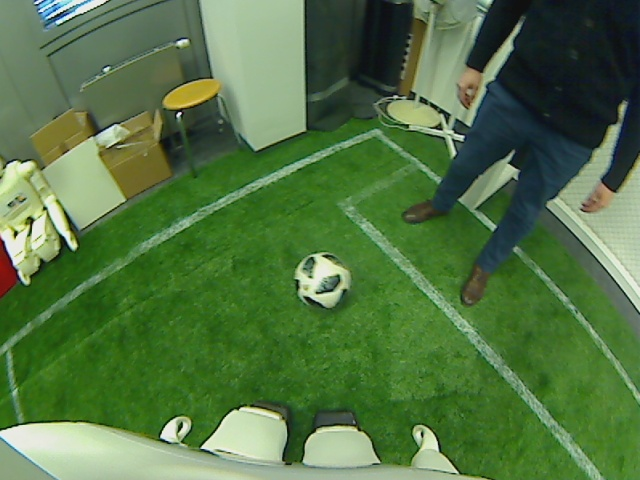ball: (291, 251, 352, 310)
